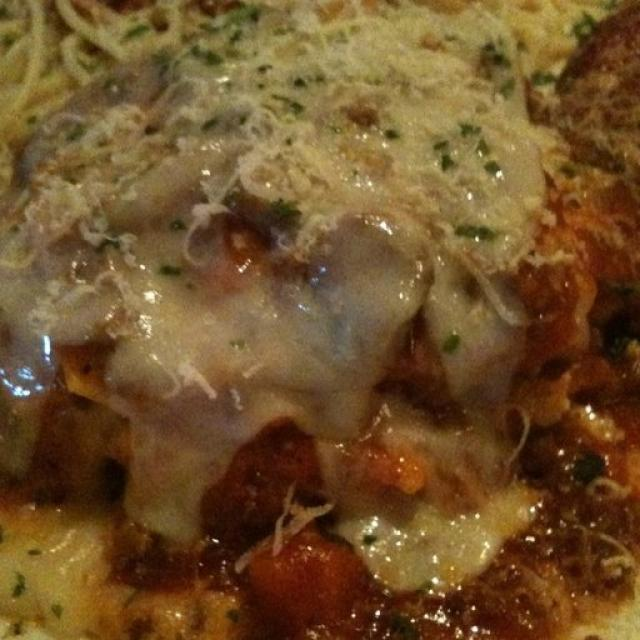Lasagna: (59, 165, 610, 585)
